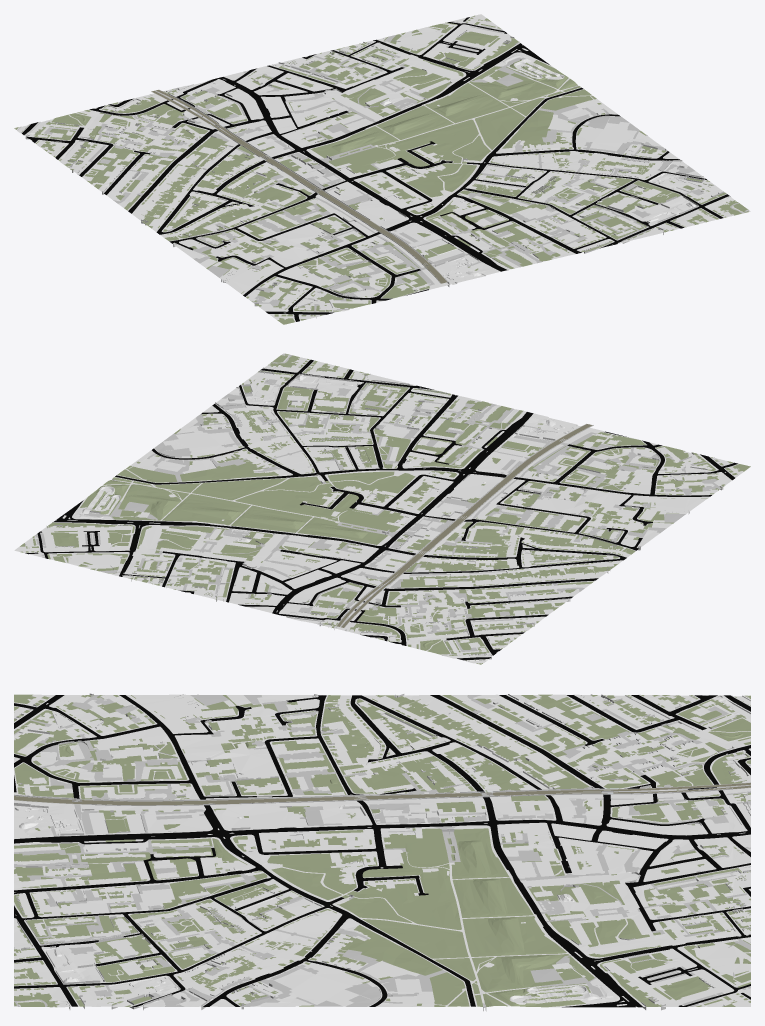
Rendered from TQ3277_Terrain_LOD_1_draco.glb.
3 renders of one model, top to bottom at view 1: azimuth 30°, elevation 25°; view 2: azimuth 150°, elevation 25°; view 3: azimuth 270°, elevation 25°, orthographic. The views are drawn at different scales.
Parts seen in each view (by area): view 1: TQ3277_Terrain; view 2: TQ3277_Terrain; view 3: TQ3277_Terrain.
Boxes of the visible parts, x1,y1,x2,y2 form: TQ3277_Terrain: [14, 14, 750, 324]; TQ3277_Terrain: [14, 353, 750, 664]; TQ3277_Terrain: [14, 693, 750, 1011].
Size of the model in its own units: 1000 by 15.32 by 1000.
1 material, 1 textured.
